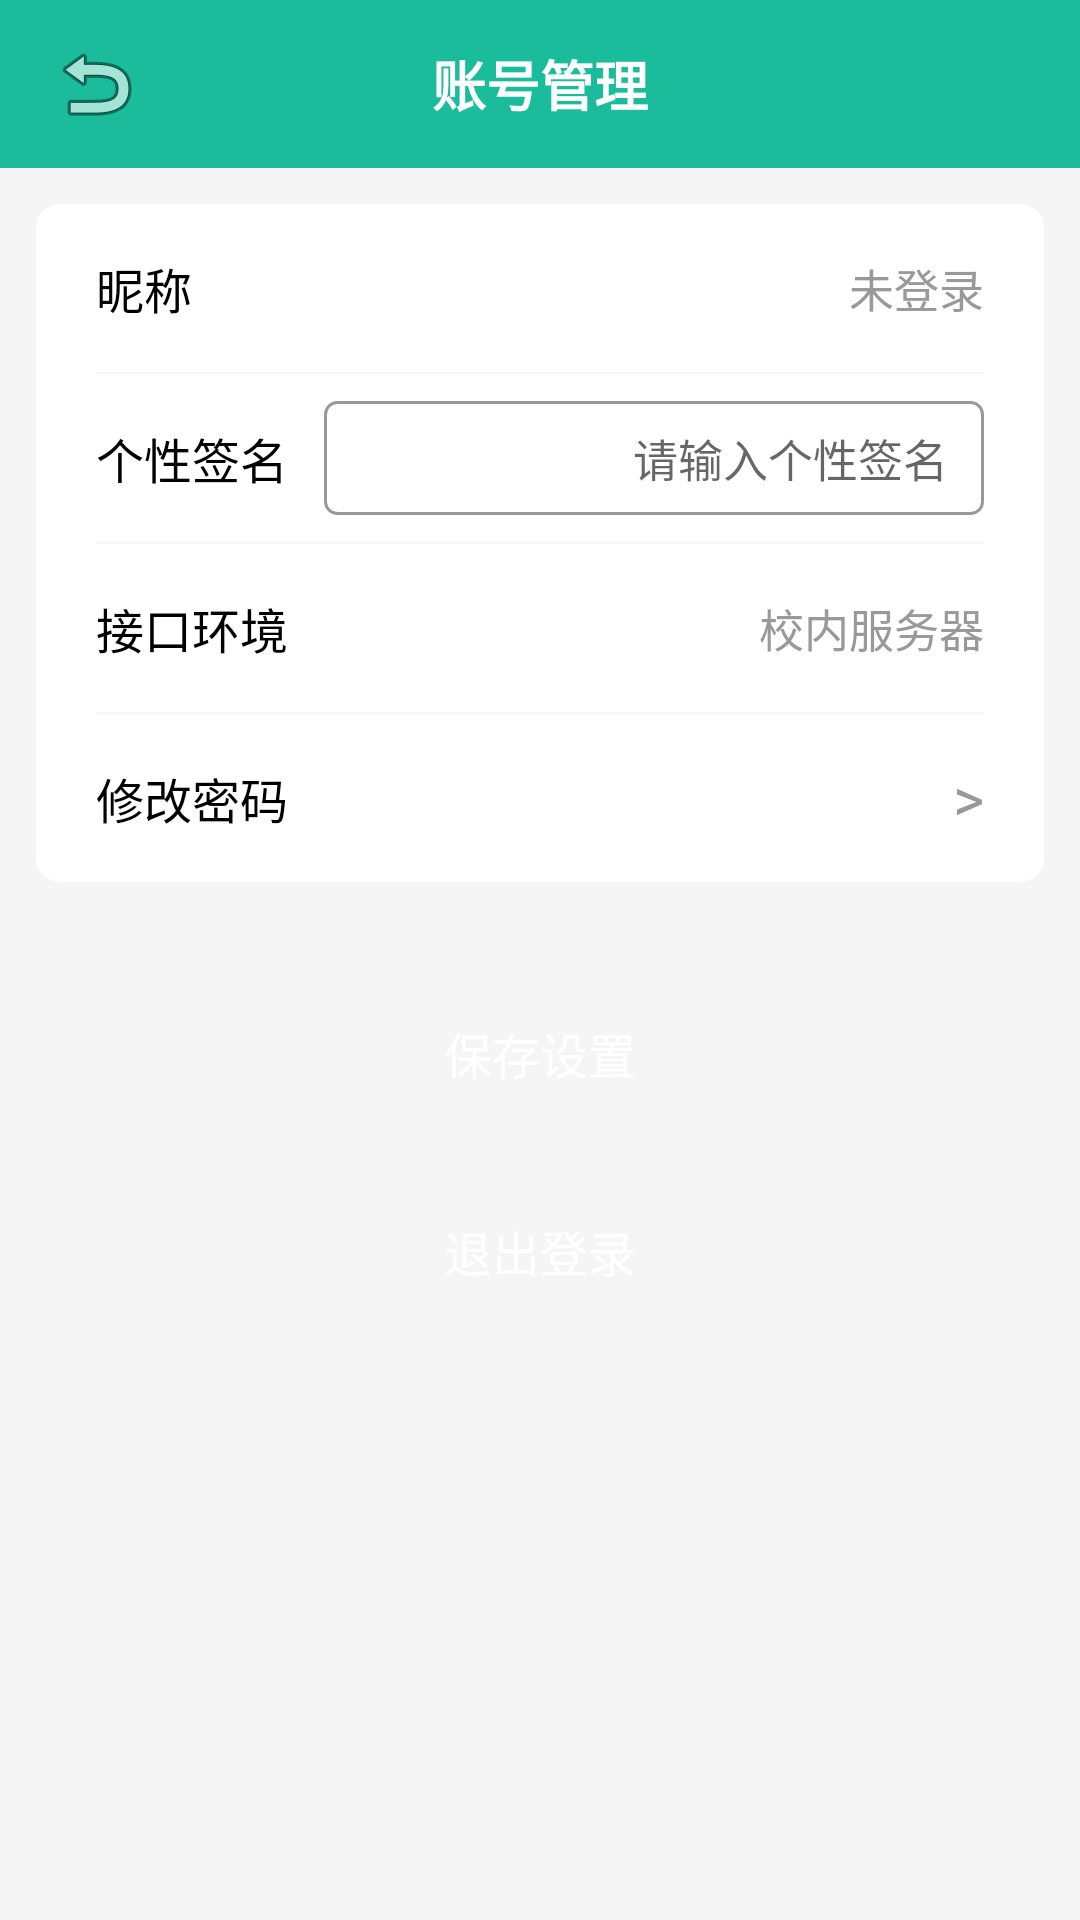

Point at icon controls on the screen. Image size 1080 × 1920, points as (x,y).
返回: (97,84)
